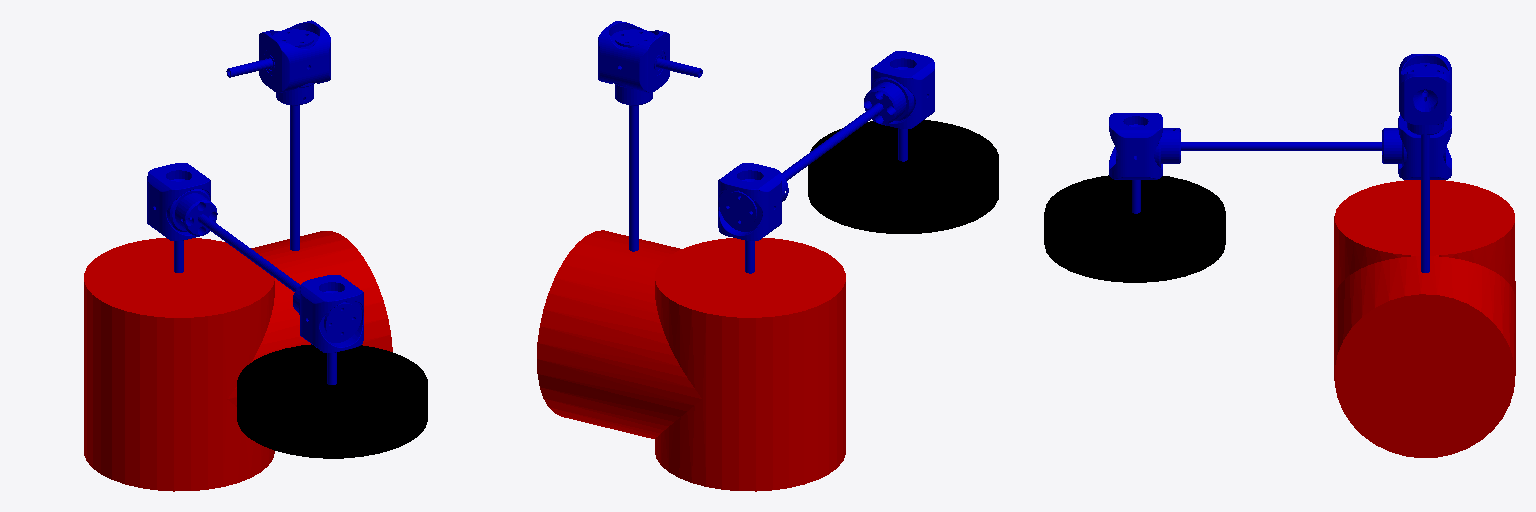
The robot description file, URDF, robot "node20":
<?xml version="1.0"?>
<robot  name="node20" >
 <material  name="blue" >
  <color  rgba="0 0 0.8 1.0" />
 </material>
 <material  name="red" >
  <color  rgba="0.8 0 0 1.0" />
 </material>
 <material  name="black" >
  <color  rgba="0.0 0.0 0.0 1.0" />
 </material>
 <link  name="root_mod" >
  <visual >
   <origin  rpy="0 0 0"  xyz="0 0 0" />
   <material  name="black" />
   <geometry >
    <cylinder  radius="0.05"  length="0.02" />
   </geometry>
  </visual>
 </link>
 <link  name="linkMod_1" >
  <inertial >
   <origin  rpy="-0.0 1.5707963267948966 0.0"  xyz="-8.881784197001253e-18 0.0 0.04" />
   <mass  value="0.2" />
   <inertia  ixz="0.0"  iyz="0.0"  iyy="0.0"  ixy="0.0"  ixx="0.0011127270000000002"  izz="0.0011127270000000002" />
  </inertial>
  <visual >
   <origin  rpy="-0.0 1.5707963267948966 0.0"  xyz="-8.881784197001253e-18 0.0 0.04" />
   <material  name="blue" />
   <geometry >
    <mesh  scale="0.001 0.001 0.001"  filename="./meshes/l1_module.obj" />
   </geometry>
  </visual>
 </link>
 <joint  type="revolute"  name="joint_1_revolute" >
  <parent  link="root_mod" />
  <child  link="linkMod_1" />
  <origin  rpy="0 0 0"  xyz="0.0 0.0 0.01" />
  <axis  xyz="0.0 0.0 1.0" />
 </joint>
 <transmission  name="act_joint_1_revolute" >
  <type  xmltext="SimpleTransmission" >
   SimpleTransmission
  </type>
  <actuator  name="trans_joint_1_revolute" >
   <mechanicalreduction  xmltext="1" >
    1
   </mechanicalreduction>
  </actuator>
  <joint  name="joint_1_revolute" />
 </transmission>
 <link  name="jointMod_2" >
  <inertial >
   <origin  rpy="-1.5707963267948963 0.0 0.0"  xyz="0.0 7.771561172376096e-19 -0.0035" />
   <mass  value="0.6" />
   <inertia  ixz="0.0"  iyz="0.0"  iyy="0.0007418180000000001"  ixy="0.0"  ixx="0.0007418180000000001"  izz="0.0011127270000000002" />
  </inertial>
  <visual >
   <origin  rpy="-1.5707963267948963 0.0 0.0"  xyz="0.0 7.771561172376096e-19 -0.0035" />
   <material  name="red" />
   <geometry >
    <mesh  scale="0.001 0.001 0.001"  filename="./meshes/j_module.obj" />
   </geometry>
  </visual>
 </link>
 <joint  type="fixed"  name="joint_2_fixed" >
  <parent  link="linkMod_1" />
  <child  link="jointMod_2" />
  <origin  rpy="0 0 0"  xyz="0.0 0.16 0.0" />
  <axis  xyz="0.0 0.0 -1.0" />
 </joint>
 <link  name="linkMod_3" >
  <inertial >
   <origin  rpy="1.5707963240855651 -1.2497703982816688e-08 -3.141592641092089"  xyz="0.03999999999999998 4.999081662324221e-10 -4.999081648780052e-10" />
   <mass  value="0.2" />
   <inertia  ixz="0.0"  iyz="0.0"  iyy="0.0"  ixy="0.0"  ixx="0.0011127270000000002"  izz="0.0011127270000000002" />
  </inertial>
  <visual >
   <origin  rpy="1.5707963240855651 -1.2497703982816688e-08 -3.141592641092089"  xyz="0.03999999999999998 4.999081662324221e-10 -4.999081648780052e-10" />
   <material  name="blue" />
   <geometry >
    <mesh  scale="0.001 0.001 0.001"  filename="./meshes/l1_module.obj" />
   </geometry>
  </visual>
 </link>
 <joint  type="revolute"  name="joint_3_revolute" >
  <parent  link="jointMod_2" />
  <child  link="linkMod_3" />
  <origin  rpy="0 0 0"  xyz="0.03 0.00030000000000001174 -0.053000000000000005" />
  <axis  xyz="1.0 0.0 0.0" />
 </joint>
 <transmission  name="act_joint_3_revolute" >
  <type  xmltext="SimpleTransmission" >
   SimpleTransmission
  </type>
  <actuator  name="trans_joint_3_revolute" >
   <mechanicalreduction  xmltext="1" >
    1
   </mechanicalreduction>
  </actuator>
  <joint  name="joint_3_revolute" />
 </transmission>
 <link  name="eef" />
 <joint  type="fixed"  name="eef_joint" >
  <parent  link="linkMod_3" />
  <child  link="eef" />
  <origin  rpy="0 0 0"  xyz="1.9996326608429094e-09 -4.3349299788124236e-10 0.15999999999999995" />
  <axis  xyz="-1.0 -0.0 0.0" />
 </joint>
</robot>

--- Facts derived from the render (not from the file) ---
Views: 3 orthographic renders of the robot side by side, from view 1: azimuth 30°, elevation 25°; view 2: azimuth 150°, elevation 25°; view 3: azimuth 270°, elevation 25°.
Robot: node20 — 5 links, 4 joints (2 revolute, 2 fixed); root link root_mod; default pose: every joint at zero.
Visible links, largest first — view 1: jointMod_2, root_mod, linkMod_1, linkMod_3; view 2: jointMod_2, root_mod, linkMod_1, linkMod_3; view 3: jointMod_2, root_mod, linkMod_1, linkMod_3.
Boxes of the visible links, left/top/right/bottom form: jointMod_2: left=84, top=231, right=392, bottom=491; root_mod: left=237, top=344, right=427, bottom=458; linkMod_1: left=147, top=163, right=363, bottom=384; linkMod_3: left=226, top=20, right=330, bottom=250; jointMod_2: left=537, top=230, right=845, bottom=491; root_mod: left=808, top=120, right=998, bottom=233; linkMod_1: left=718, top=51, right=934, bottom=273; linkMod_3: left=598, top=21, right=702, bottom=251; jointMod_2: left=1334, top=180, right=1515, bottom=457; root_mod: left=1044, top=175, right=1225, bottom=282; linkMod_1: left=1109, top=113, right=1451, bottom=213; linkMod_3: left=1399, top=54, right=1451, bottom=272.
Size in the robot's own frame: 0.15 by 0.26 by 0.2256 metres.
Meshes: 2 distinct files referenced, 3 mesh visuals loaded (2 OBJ).